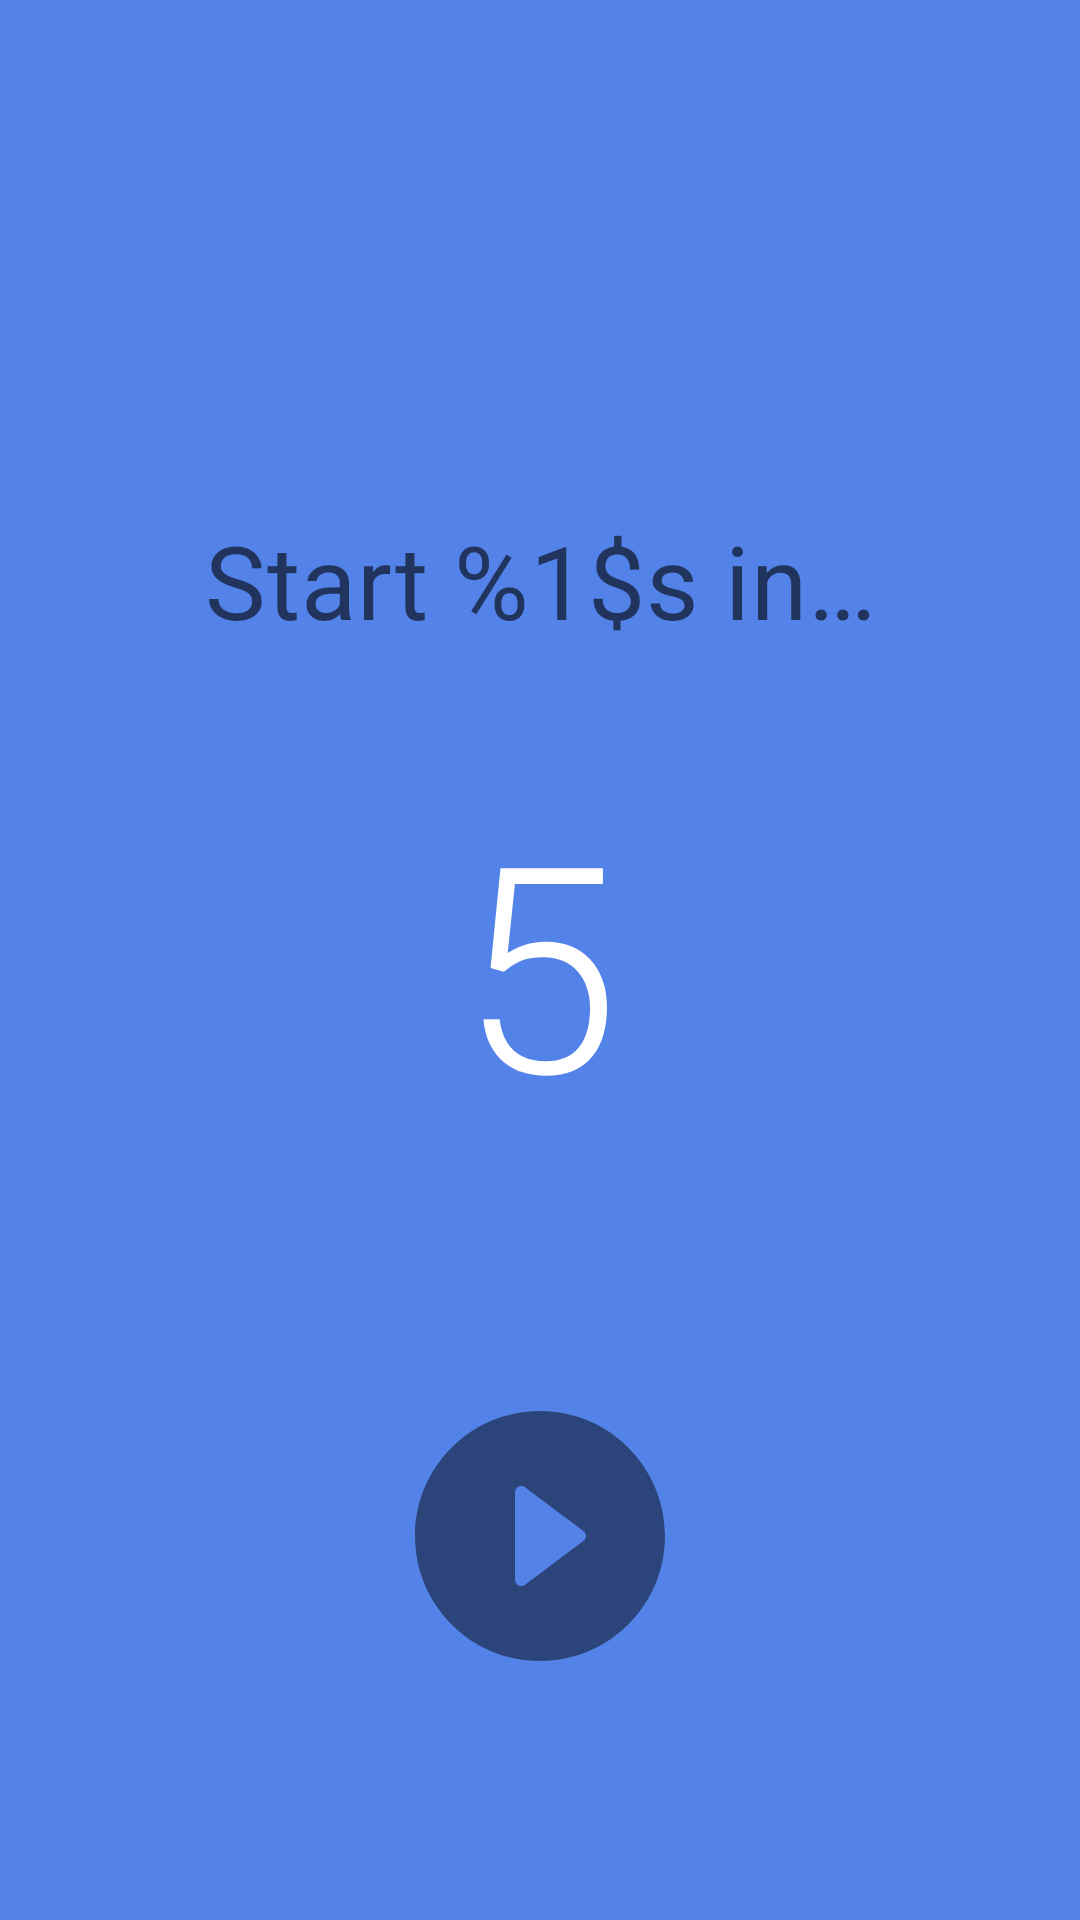

Screen size 1080*1920. Icon name, then its box in pixels as (x1, y1, x2, y2):
as start stop toggle: (415, 1411, 665, 1661)
